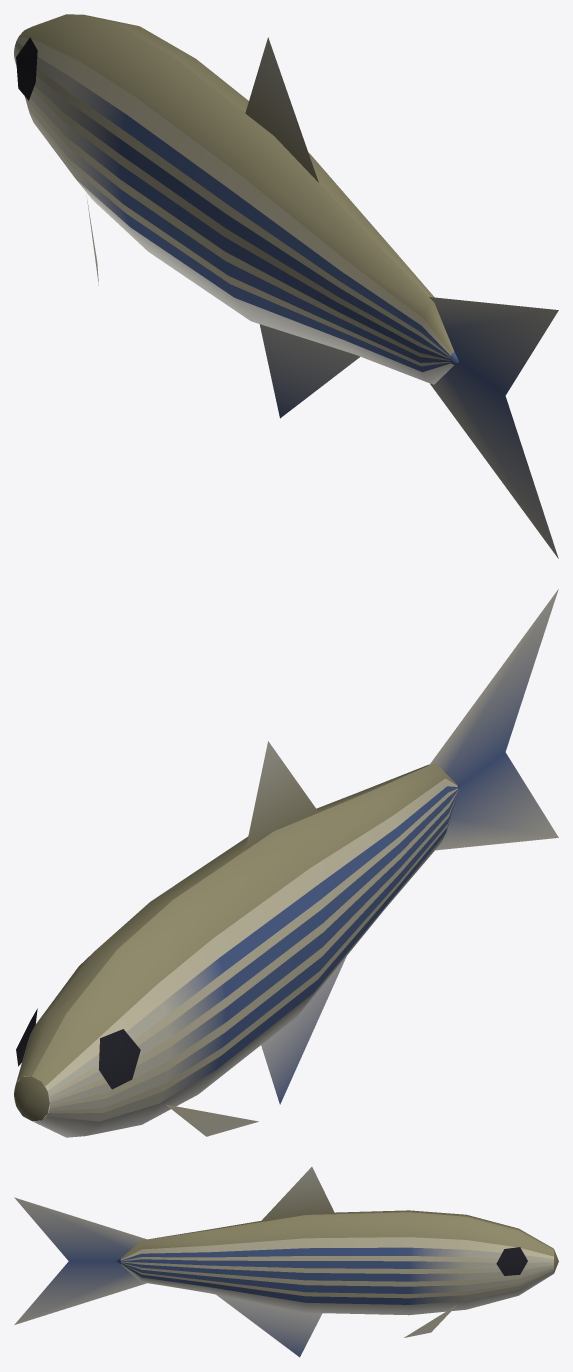
File: zebra_danio_school.glb
3 renders of one model, top to bottom at view 1: azimuth 30°, elevation 25°; view 2: azimuth 150°, elevation 25°; view 3: azimuth 270°, elevation 25°, orthographic. The views are drawn at different scales.
Visible parts, largest first — view 1: zebra_danio_school; view 2: zebra_danio_school; view 3: zebra_danio_school.
Part boxes in pixels (<box>): zebra_danio_school: <box>14,14,558,558</box>; zebra_danio_school: <box>14,589,558,1137</box>; zebra_danio_school: <box>14,1167,558,1357</box>.
Bounding box in the file's own units: 0.00781 × 0.0173 × 0.0448.
